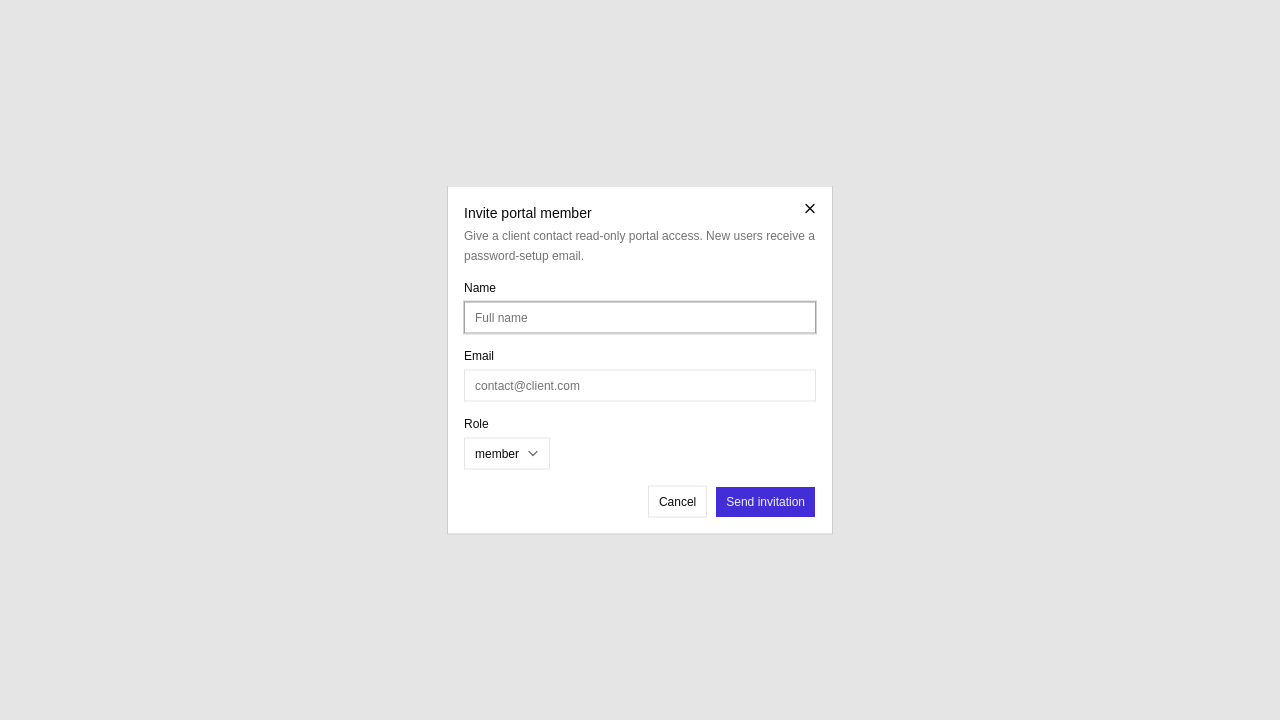
Test: InviteClientMemberDialog › rejects invalid email before submit
Type "New Contact" into the field labelled "Name". click: (640, 318)
box: [464, 302, 816, 334]
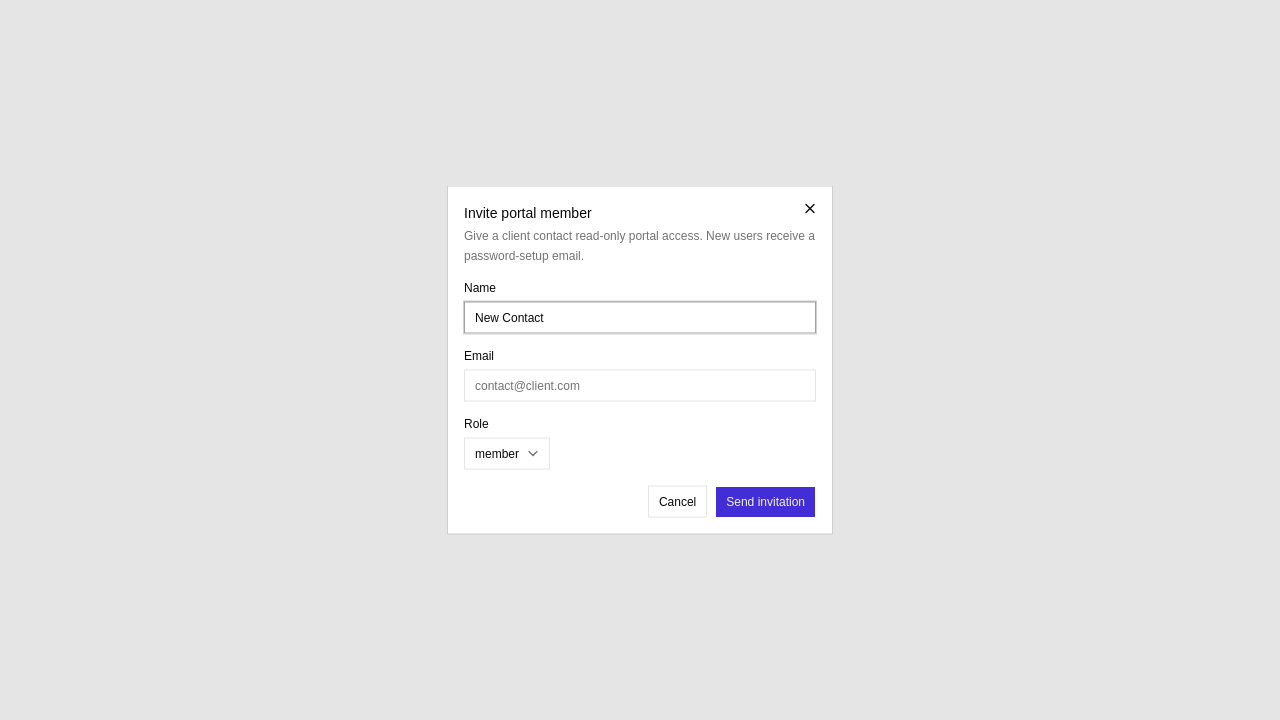
Type "not-an-email" into the field labelled "Email". click: (640, 386)
box: [464, 370, 816, 402]
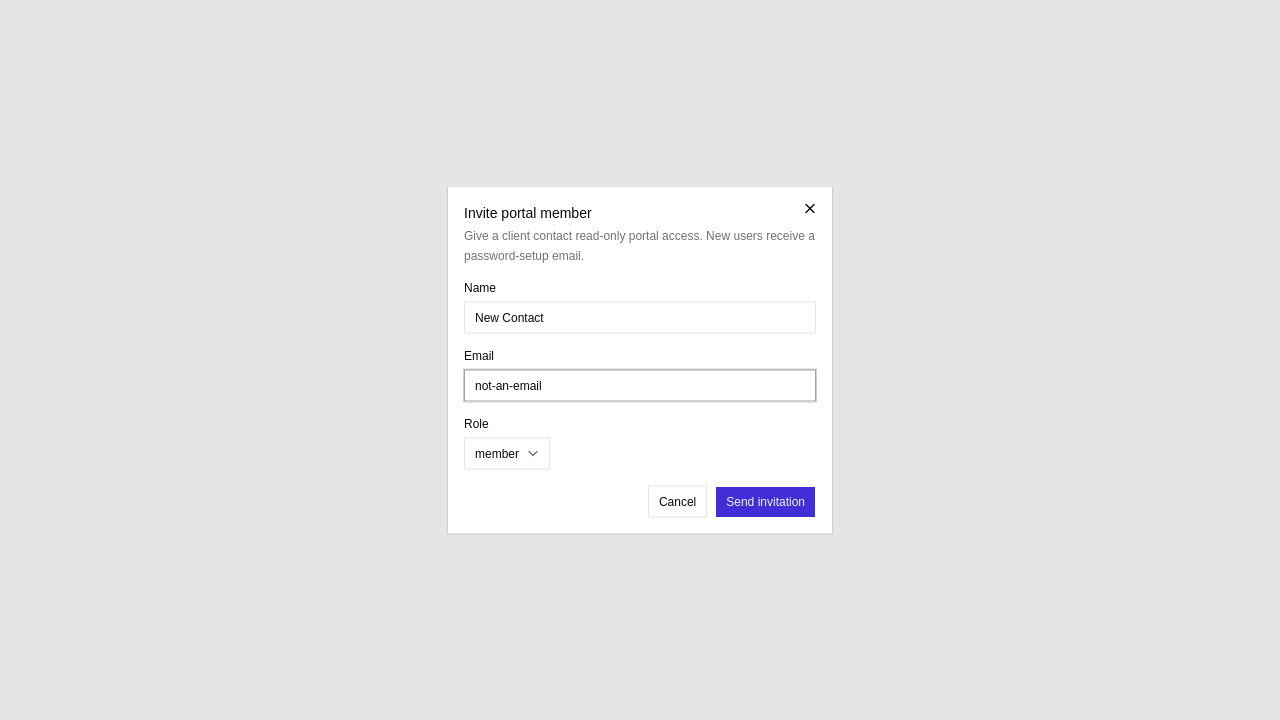
Click the button "Send invitation". click: (766, 502)
box: [715, 486, 816, 518]
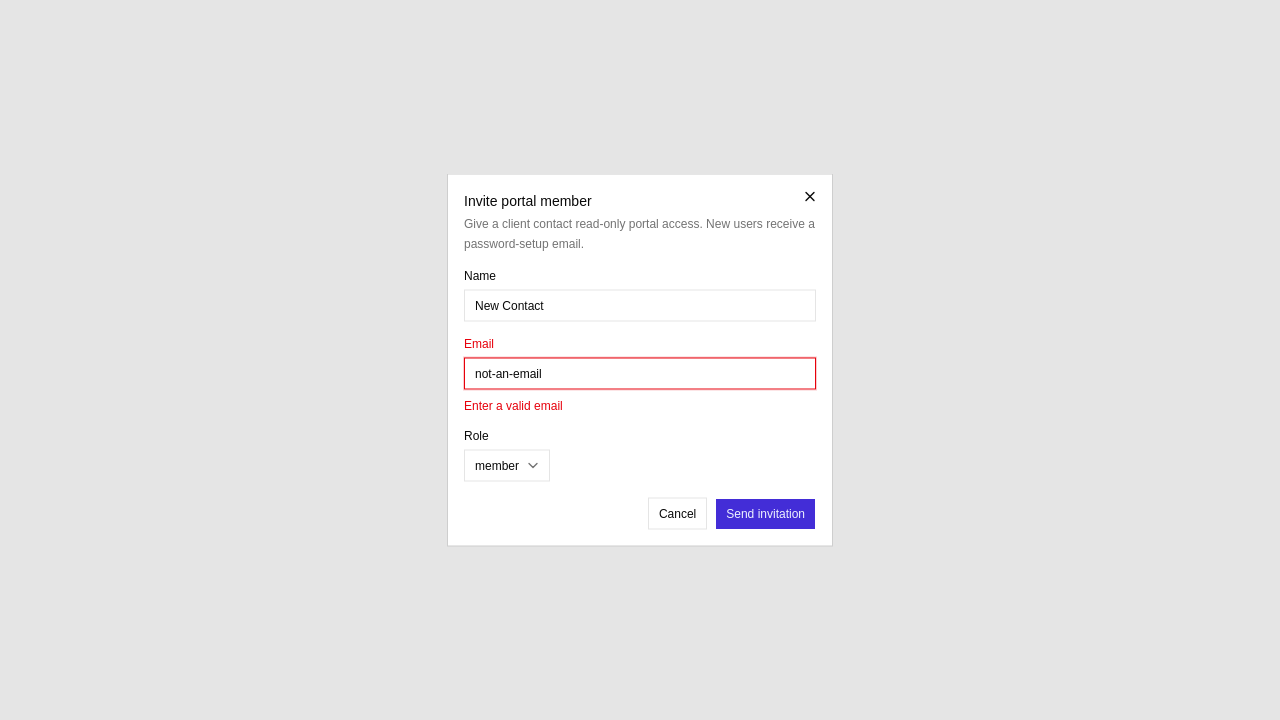
Now the text "Enter a valid email" is shown, box [464, 398, 563, 412]
